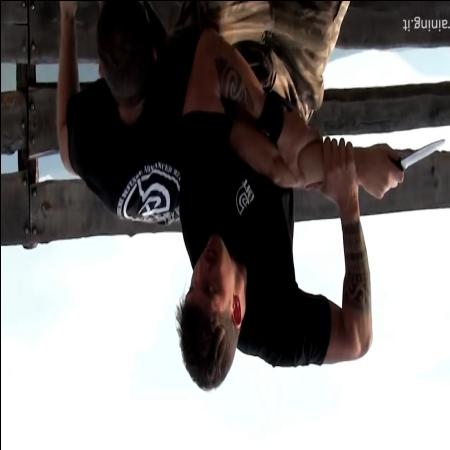long weapon: (373, 133, 449, 203)
